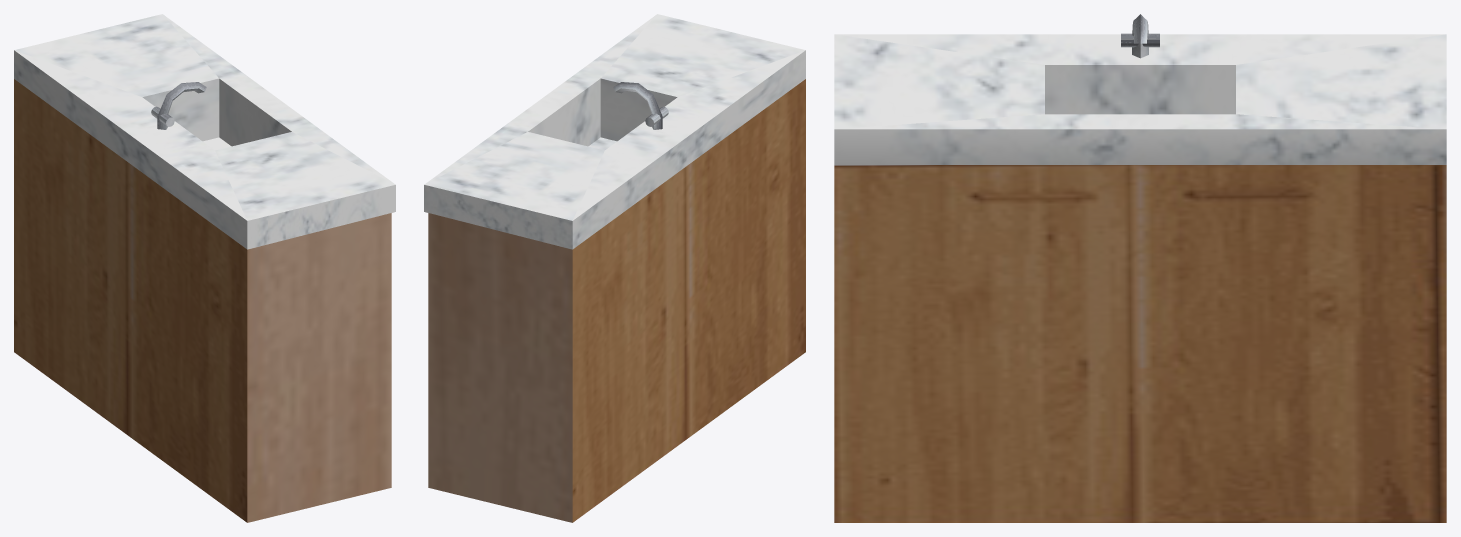
File: Sink.fbx
The picture shows the model from 3 angles, left to right: view 1: azimuth 30°, elevation 25°; view 2: azimuth 150°, elevation 25°; view 3: azimuth 270°, elevation 25°; orthographic projection. The views are drawn at different scales.
Visible parts, largest first — view 1: pCube41, pCube99, pCube42; view 2: pCube41, pCube99, pCube42; view 3: pCube41, pCube99.
Boxes of the visible parts, x1=… form: pCube41: x1=14, y1=14, x2=395, y2=522; pCube99: x1=146, y1=81, x2=277, y2=150; pCube42: x1=157, y1=82, x2=206, y2=129; pCube41: x1=424, y1=14, x2=805, y2=522; pCube99: x1=562, y1=79, x2=673, y2=150; pCube42: x1=613, y1=82, x2=662, y2=129; pCube41: x1=834, y1=34, x2=1446, y2=522; pCube99: x1=1045, y1=67, x2=1235, y2=108.
Size of the model in its own units: 0.5144 by 1.13 by 1.4.
